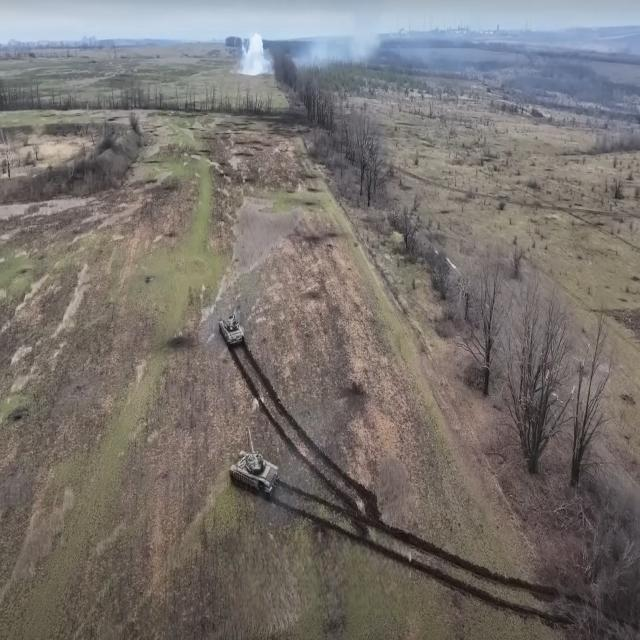MBT: (229, 424, 281, 500), (218, 303, 247, 353)
